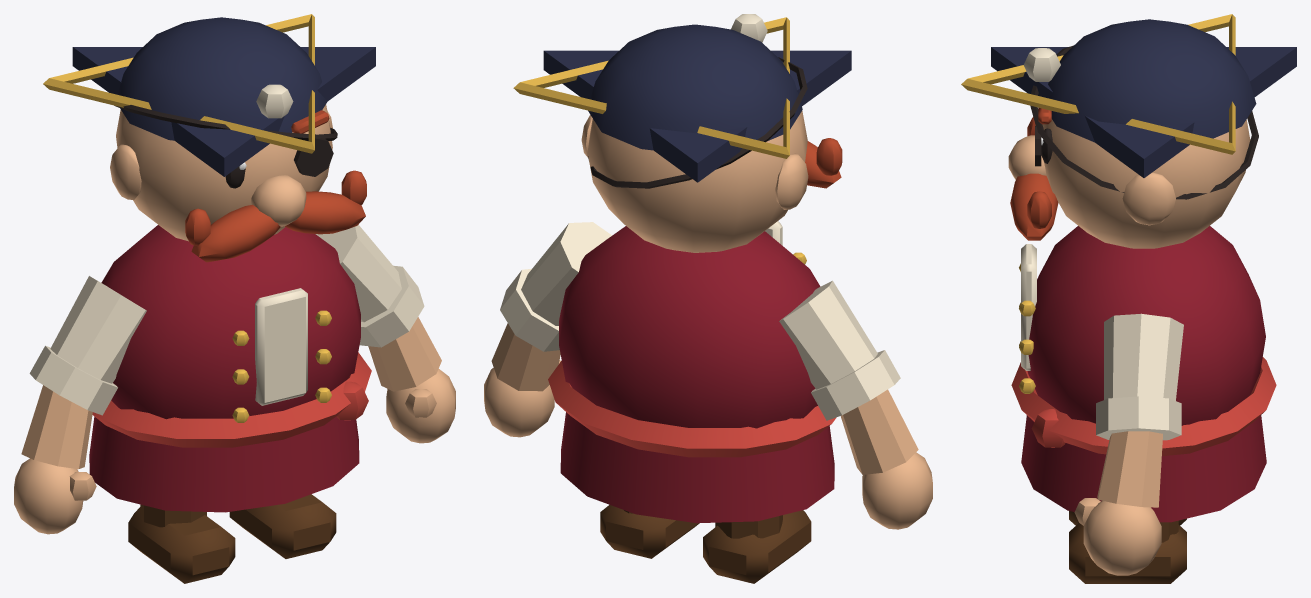
Rendered from CH_Costume_Barlo_Korsan.fbx.
The picture shows the model from 3 angles, left to right: view 1: azimuth 30°, elevation 25°; view 2: azimuth 150°, elevation 25°; view 3: azimuth 270°, elevation 25°; orthographic projection.
Visible parts, largest first — view 1: CH_Costume_Barlo_Korsan; view 2: CH_Costume_Barlo_Korsan; view 3: CH_Costume_Barlo_Korsan.
Boxes of the visible parts, box(x1,y1,x2,y2) form: CH_Costume_Barlo_Korsan: box(14, 14, 455, 583); CH_Costume_Barlo_Korsan: box(484, 14, 932, 583); CH_Costume_Barlo_Korsan: box(961, 14, 1296, 583).
Bounding box in the file's own units: 0.9352 × 1.07 × 0.6278.
